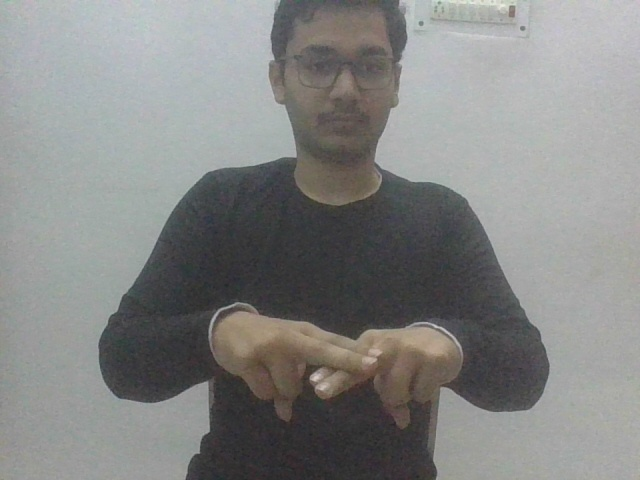F: (205, 299, 466, 430)
